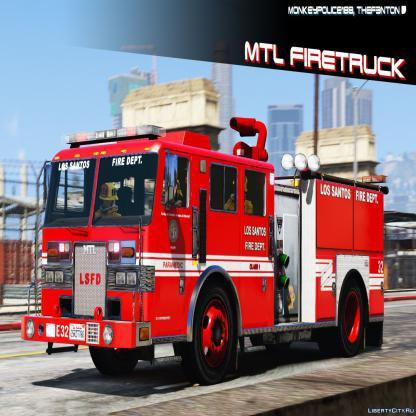fire-truck: (11, 82, 416, 389)
